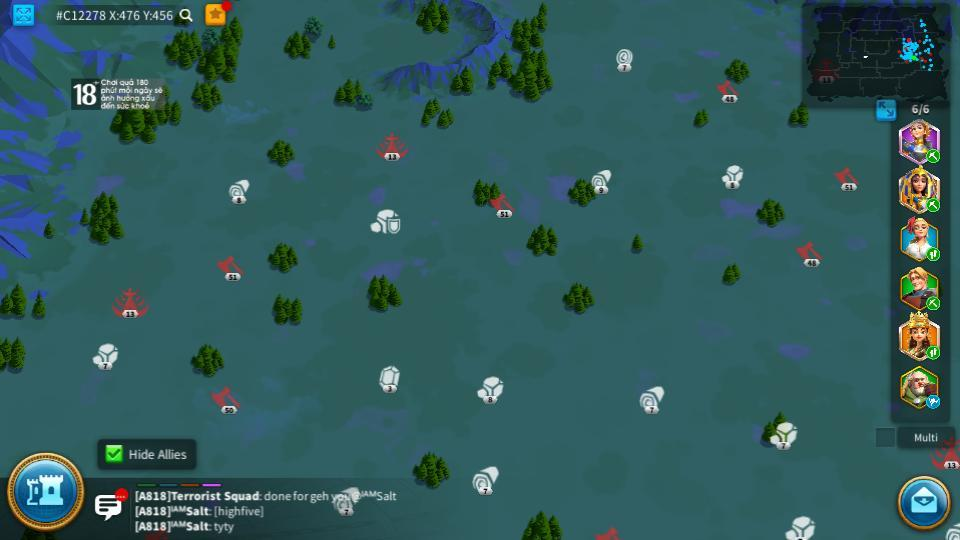gem-z-out: (378, 365, 401, 391)
march_idle: (925, 396, 942, 408)
march_marching: (925, 197, 941, 212), (925, 345, 941, 359), (923, 248, 940, 260), (925, 150, 941, 162), (925, 297, 942, 308)
